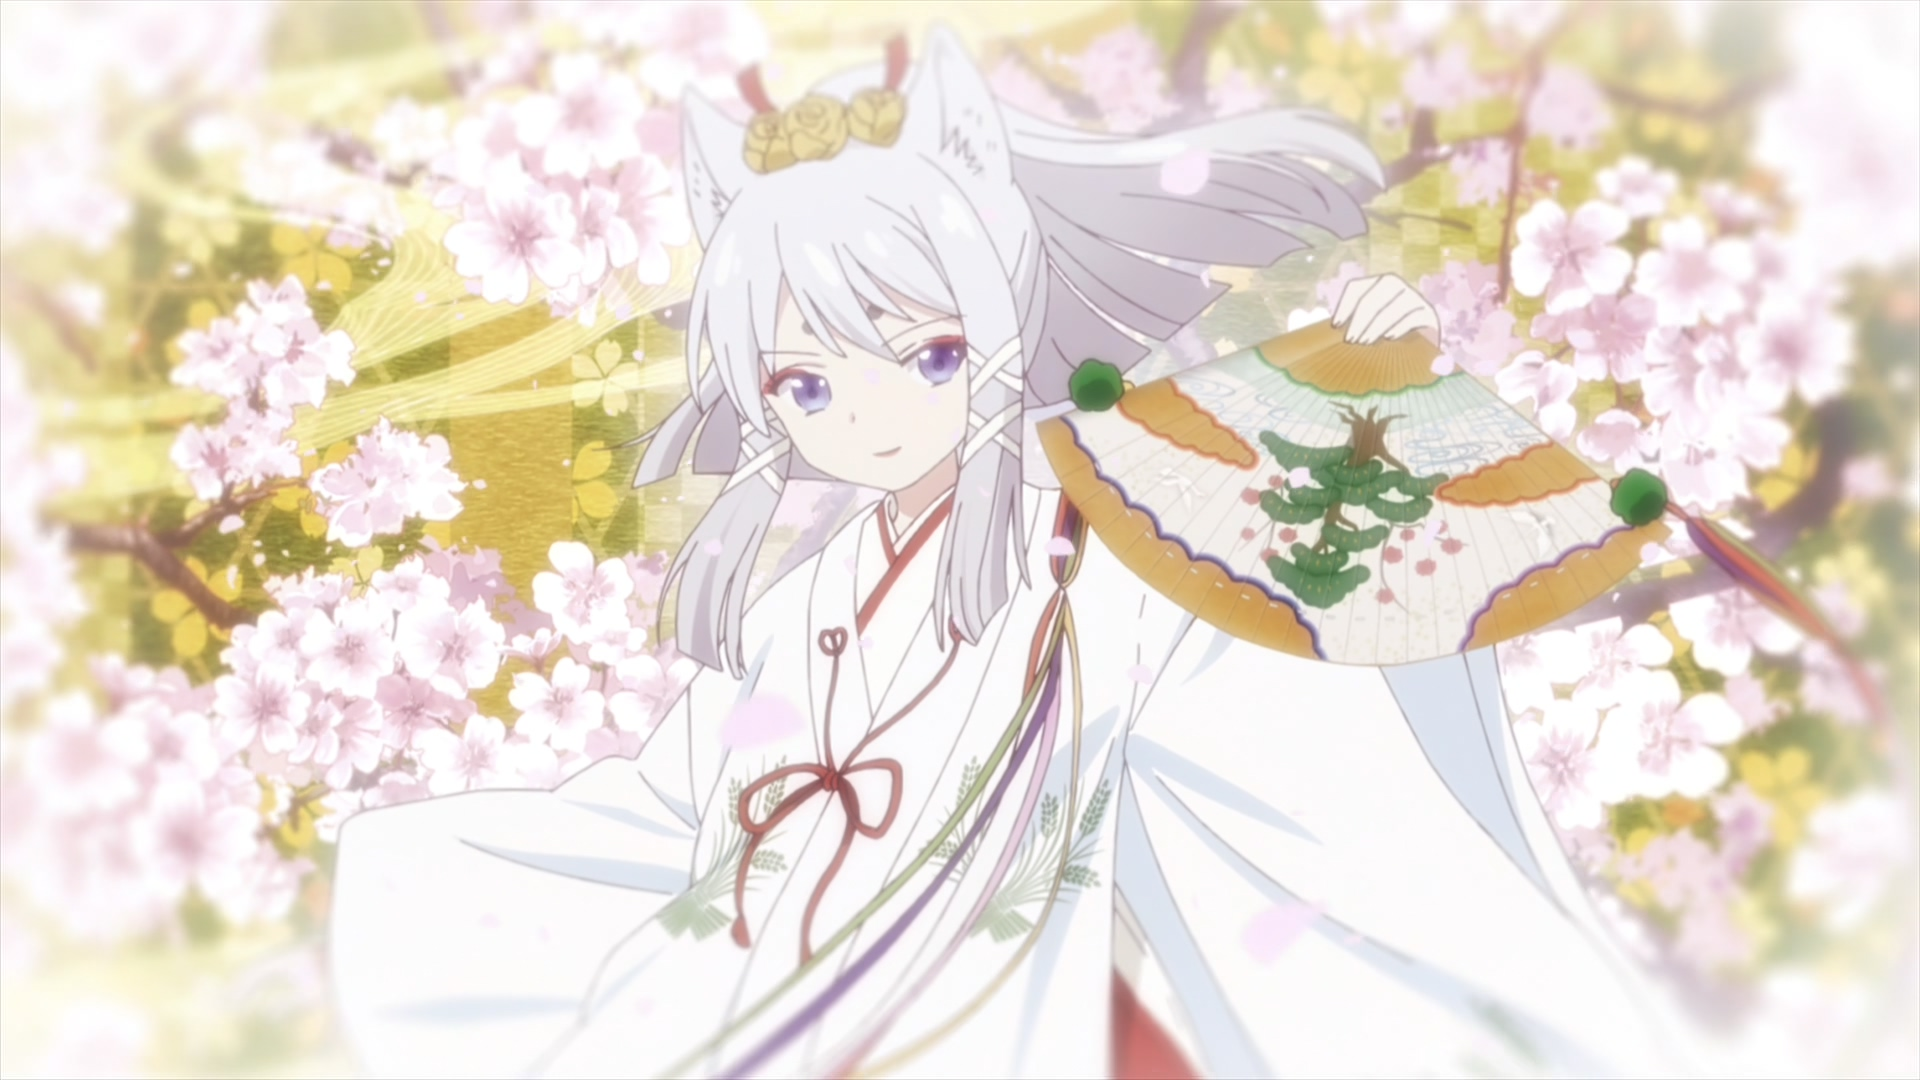柊: (211, 24, 1759, 1080)
